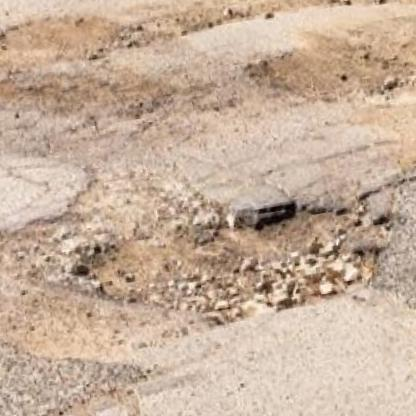pothole: (62, 167, 399, 344), (0, 6, 139, 119), (254, 33, 413, 116)
